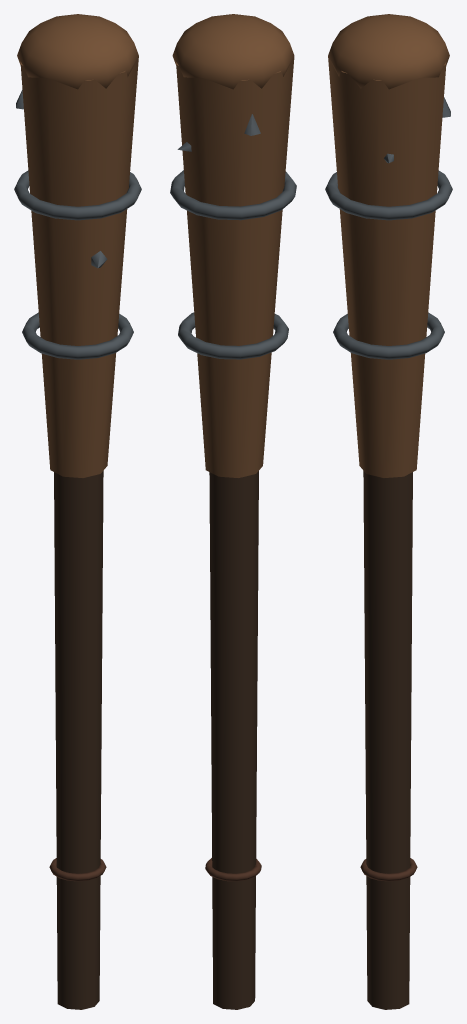
The model's file is greatclub.glb.
3 renders of one model, left to right at view 1: azimuth 90°, elevation 25°; view 2: azimuth 210°, elevation 25°; view 3: azimuth 270°, elevation 25°, orthographic.
Visible parts, largest first — view 1: greatclub-head, greatclub-shaft, greatclub-head-cap, greatclub-iron-band (×2), greatclub-grip-wrap; view 2: greatclub-head, greatclub-shaft, greatclub-head-cap, greatclub-iron-band (×2), greatclub-grip-wrap; view 3: greatclub-head, greatclub-shaft, greatclub-head-cap, greatclub-iron-band (×2), greatclub-grip-wrap.
Part boxes in pixels (<box>): greatclub-head: <box>20,56,138,477</box>; greatclub-shaft: <box>54,471,103,1009</box>; greatclub-head-cap: <box>17,14,138,89</box>; greatclub-iron-band (×2): <box>14,170,141,359</box>; greatclub-grip-wrap: <box>49,858,106,881</box>; greatclub-head: <box>176,56,294,477</box>; greatclub-shaft: <box>209,471,258,1009</box>; greatclub-head-cap: <box>172,14,294,89</box>; greatclub-iron-band (×2): <box>170,170,296,359</box>; greatclub-grip-wrap: <box>205,858,261,881</box>; greatclub-head: <box>328,56,446,477</box>; greatclub-shaft: <box>363,471,412,1009</box>; greatclub-head-cap: <box>328,14,449,89</box>; greatclub-iron-band (×2): <box>325,170,452,359</box>; greatclub-grip-wrap: <box>360,858,417,881</box>.
Bounding box in the file's own units: 0.1019 × 0.8534 × 0.1011.
